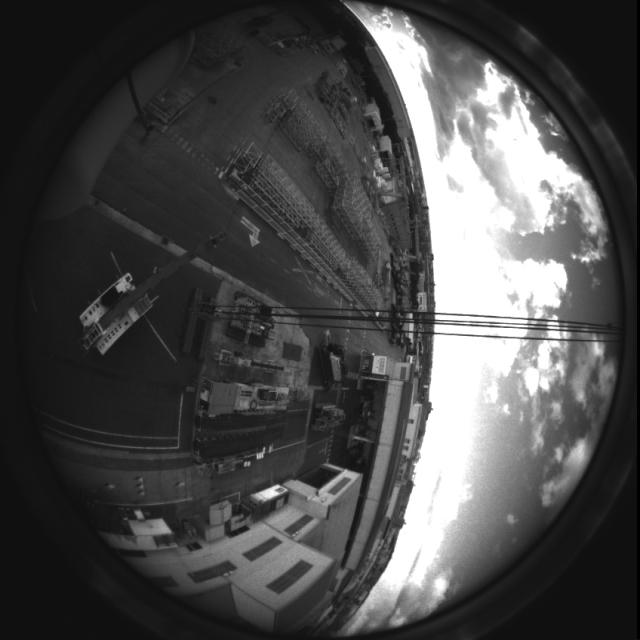rope: (155, 293, 636, 346)
sky: (322, 2, 620, 637)
